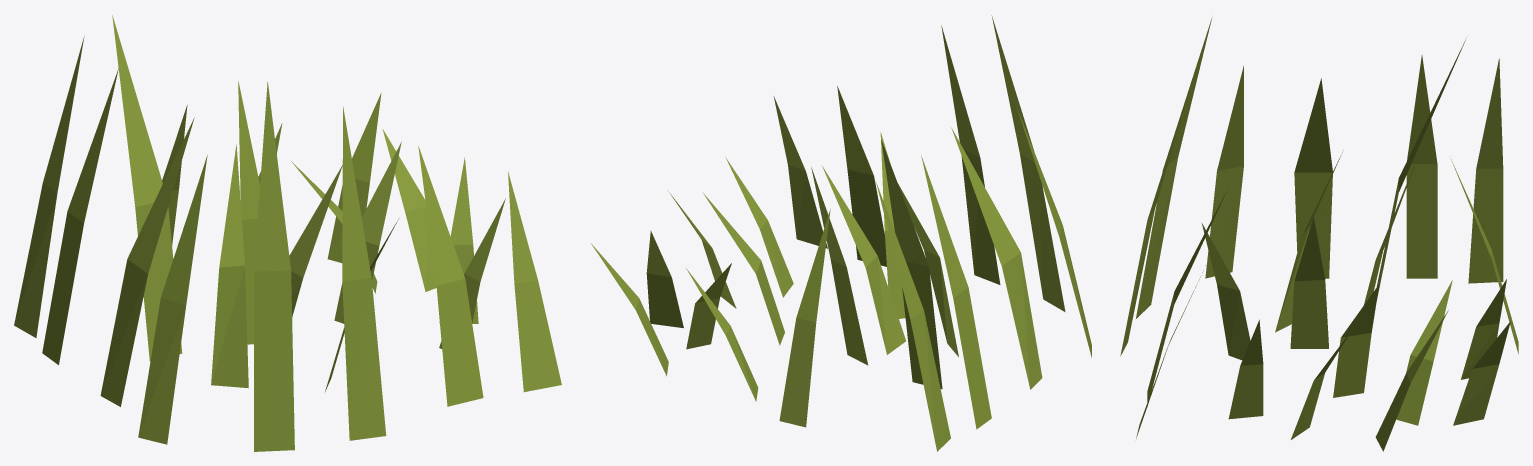
3 views of the same model, side by side, from view 1: azimuth 30°, elevation 25°; view 2: azimuth 150°, elevation 25°; view 3: azimuth 270°, elevation 25° (orthographic). The views are drawn at different scales.
Bounding box in the file's own units: 110 × 89 × 103.
Materials: 1 (1 with a texture image).
